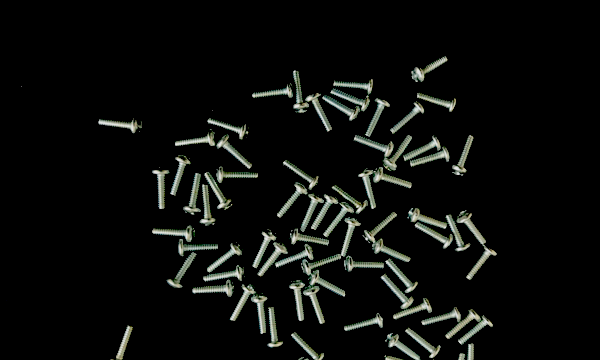shortscrew: (216, 134, 254, 169), (206, 241, 245, 274), (331, 185, 370, 217), (386, 258, 420, 294), (362, 210, 398, 244), (382, 274, 415, 311), (277, 181, 309, 219), (167, 252, 198, 291), (205, 172, 235, 212), (258, 240, 290, 277), (282, 160, 320, 191), (230, 282, 259, 322), (467, 244, 499, 280), (323, 202, 355, 238), (402, 134, 443, 162), (305, 92, 333, 133), (382, 134, 413, 171), (411, 54, 449, 84), (353, 133, 395, 160), (391, 101, 425, 134), (446, 307, 481, 339), (459, 314, 494, 345), (365, 97, 392, 137), (309, 269, 346, 298), (445, 212, 471, 253), (252, 228, 278, 269), (311, 193, 339, 231), (322, 95, 360, 123), (456, 210, 486, 245), (290, 331, 326, 360), (385, 331, 421, 360), (414, 224, 454, 250), (208, 117, 251, 141), (450, 135, 475, 176), (371, 238, 411, 263), (331, 88, 371, 113), (393, 296, 434, 320), (407, 206, 448, 230), (276, 244, 316, 268), (415, 93, 458, 115), (97, 115, 142, 136), (411, 145, 452, 168), (356, 166, 377, 210), (303, 285, 326, 325), (182, 173, 203, 216), (372, 167, 413, 189), (301, 253, 341, 275), (110, 325, 135, 360), (344, 312, 385, 333), (422, 305, 462, 326), (344, 253, 385, 273), (176, 129, 217, 149), (288, 228, 329, 248), (341, 217, 362, 256), (152, 167, 171, 210), (291, 71, 310, 114), (203, 265, 246, 284), (199, 185, 218, 227), (152, 225, 196, 243), (192, 280, 236, 298), (267, 307, 285, 350), (252, 82, 295, 100), (251, 293, 269, 335), (217, 166, 259, 184), (334, 77, 375, 95), (289, 279, 306, 322), (178, 240, 220, 257), (462, 344, 479, 360), (384, 355, 426, 360), (447, 353, 466, 360), (294, 358, 324, 360), (425, 359, 448, 360)
